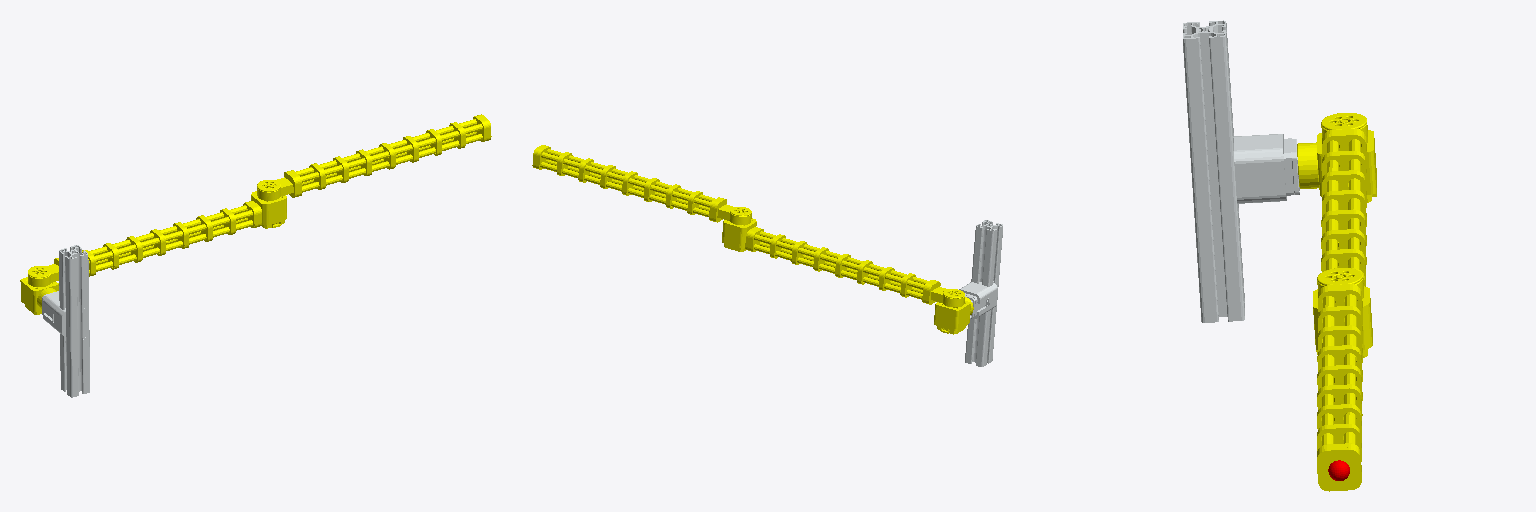
URDF robot description (legrobot):
<?xml version="1.0" encoding="utf-8"?>
<!-- This URDF was automatically created by SolidWorks to URDF Exporter! Originally created by [author] ([email redacted]) 
     Commit Version: 1.6.0-4-g7f85cfe  Build Version: 1.6.7995.38578
     For more information, please see http://wiki.ros.org/sw_urdf_exporter -->
<robot
  name="legrobot">
  <link
    name="base_link">
    <inertial>
      <origin
        xyz="-0.0025025 -0.17588 0.25152"
        rpy="0 0 0" />
      <mass
        value="0.31319" />
      <inertia
        ixx="0.0011307"
        ixy="-1.0144E-05"
        ixz="5.0665E-05"
        iyy="0.0011316"
        iyz="6.2853E-05"
        izz="0.00011229" />
    </inertial>
    <visual>
      <origin
        xyz="0 0 0"
        rpy="0 0 0" />
      <geometry>
        <mesh
          filename="package://lesson_urdf/meshes/base_link.STL" />
      </geometry>
      <material
        name="">
        <color
          rgba="0.89804 0.92157 0.92941 1" />
      </material>
    </visual>
    <collision>
      <origin
        xyz="0 0 0"
        rpy="0 0 0" />
      <geometry>
        <mesh
          filename="package://lesson_urdf/meshes/base_link.STL" />
      </geometry>
    </collision>
  </link>
  <link
    name="link_p">
    <inertial>
      <origin
        xyz="-0.000150427229849236 -0.00297528930070973 0.0208919297661822"
        rpy="0 0 0" />
      <mass
        value="0.138380104137137" />
      <inertia
        ixx="5.05247266315499E-05"
        ixy="6.91643752688145E-07"
        ixz="-5.29990486490267E-08"
        iyy="6.42572200451749E-05"
        iyz="-1.03863238761051E-06"
        izz="4.27301161244844E-05" />
    </inertial>
    <visual>
      <origin
        xyz="0 0 0"
        rpy="0 0 0" />
      <geometry>
        <mesh
          filename="package://lesson_urdf/meshes/link_p.STL" />
      </geometry>
      <material
        name="">
        <color
          rgba="1 1 0 1" />
      </material>
    </visual>
    <collision>
      <origin
        xyz="0 0 0"
        rpy="0 0 0" />
      <geometry>
        <mesh
          filename="package://lesson_urdf/meshes/link_p.STL" />
      </geometry>
    </collision>
  </link>
  <joint
    name="joint_p"
    type="continuous">
    <origin
      xyz="-0.0024512 -0.097818 0.25643"
      rpy="1.5091 0 -3.1416" />
    <parent
      link="base_link" />
    <child
      link="link_p" />
    <axis
      xyz="0 0 1" />
  </joint>
  <link
    name="link_c">
    <inertial>
      <origin
        xyz="0.315330280840531 -2.34606143384025E-05 -0.010047091614373"
        rpy="0 0 0" />
      <mass
        value="0.3089298949799" />
      <inertia
        ixx="7.20297996548906E-05"
        ixy="-1.74839874712284E-09"
        ixz="-4.98731333977898E-06"
        iyy="0.000717249875302029"
        iyz="-1.3946552312525E-08"
        izz="0.00073083436101478" />
    </inertial>
    <visual>
      <origin
        xyz="0 0 0"
        rpy="0 0 0" />
      <geometry>
        <mesh
          filename="package://lesson_urdf/meshes/link_c.STL" />
      </geometry>
      <material
        name="">
        <color
          rgba="1 1 0 1" />
      </material>
    </visual>
    <collision>
      <origin
        xyz="0 0 0"
        rpy="0 0 0" />
      <geometry>
        <mesh
          filename="package://lesson_urdf/meshes/link_c.STL" />
      </geometry>
    </collision>
  </link>
  <joint
    name="joint_c"
    type="continuous">
    <origin
      xyz="0.0021041 0.042122 0.02325"
      rpy="1.5708 0 3.0917" />
    <parent
      link="link_p" />
    <child
      link="link_c" />
    <axis
      xyz="0 0 -1" />
  </joint>
  <link
    name="link_r">
    <inertial>
      <origin
        xyz="0.212306297554012 1.94867171676716E-06 -0.011447592682255"
        rpy="0 0 0" />
      <mass
        value="0.184300341408798" />
      <inertia
        ixx="3.3203754311843E-05"
        ixy="-2.50204353742291E-09"
        ixz="-1.00150733282631E-10"
        iyy="0.000663634897908807"
        iyz="-2.39351302771645E-10"
        izz="0.000665757228078733" />
    </inertial>
    <visual>
      <origin
        xyz="0 0 0"
        rpy="0 0 0" />
      <geometry>
        <mesh
          filename="package://lesson_urdf/meshes/link_r.STL" />
      </geometry>
      <material
        name="">
        <color
          rgba="1 1 0 1" />
      </material>
    </visual>
    <collision>
      <origin
        xyz="0 0 0"
        rpy="0 0 0" />
      <geometry>
        <mesh
          filename="package://lesson_urdf/meshes/link_r.STL" />
      </geometry>
    </collision>
  </link>
   <joint
    name="joint_r"
    type="continuous">
    <origin
      xyz="0.468 0 0.037775"
      rpy="0 0 0" />
    <parent
      link="link_c" />
    <child
      link="link_r" />
    <axis
      xyz="0 0 -1" />
  </joint>

  <!-- ===== FOOT / TIP EXACTO EN PUNTA DEL STL ===== -->
  <link name="foot_link">
    <visual>
      <origin xyz="0 0 0" rpy="0 0 0"/>
      <geometry>
        <sphere radius="0.01"/>
      </geometry>
      <material name="red">
        <color rgba="1 0 0 1"/>
      </material>
    </visual>
  </link>

  <joint name="joint_foot" type="fixed">
    <origin xyz="0.441000 0.0 -0.0117" rpy="0 0 0"/>
    <parent link="link_r"/>
    <child link="foot_link"/>
  </joint>
</robot>

--- Render facts (derived) ---
3 views of the same robot in one strip: view 1: azimuth 30°, elevation 25°; view 2: azimuth 150°, elevation 25°; view 3: azimuth 270°, elevation 25° (orthographic).
Robot: legrobot — 5 links, 4 joints (3 continuous, 1 fixed); root link base_link; default pose: all joints at 0.
Visible links, largest first — view 1: link_c, link_r, base_link, link_p; view 2: link_c, link_r, base_link, link_p; view 3: base_link, link_r, link_c, link_p.
Link boxes in pixels (x1,y1,x2,y2): link_c: (28,191,286,286); link_r: (257,114,491,200); base_link: (42,245,89,397); link_p: (20,277,58,314); link_c: (722,218,964,307); link_r: (532,145,751,224); base_link: (959,220,1002,366); link_p: (934,297,973,334); base_link: (1183,20,1299,322); link_r: (1317,268,1363,491); link_c: (1313,113,1372,357); link_p: (1297,130,1376,202).
Size in the robot's own frame: 0.9415 by 0.1777 by 0.2834 metres.
4 mesh visuals loaded from 4 distinct referenced files (4 binary STL).